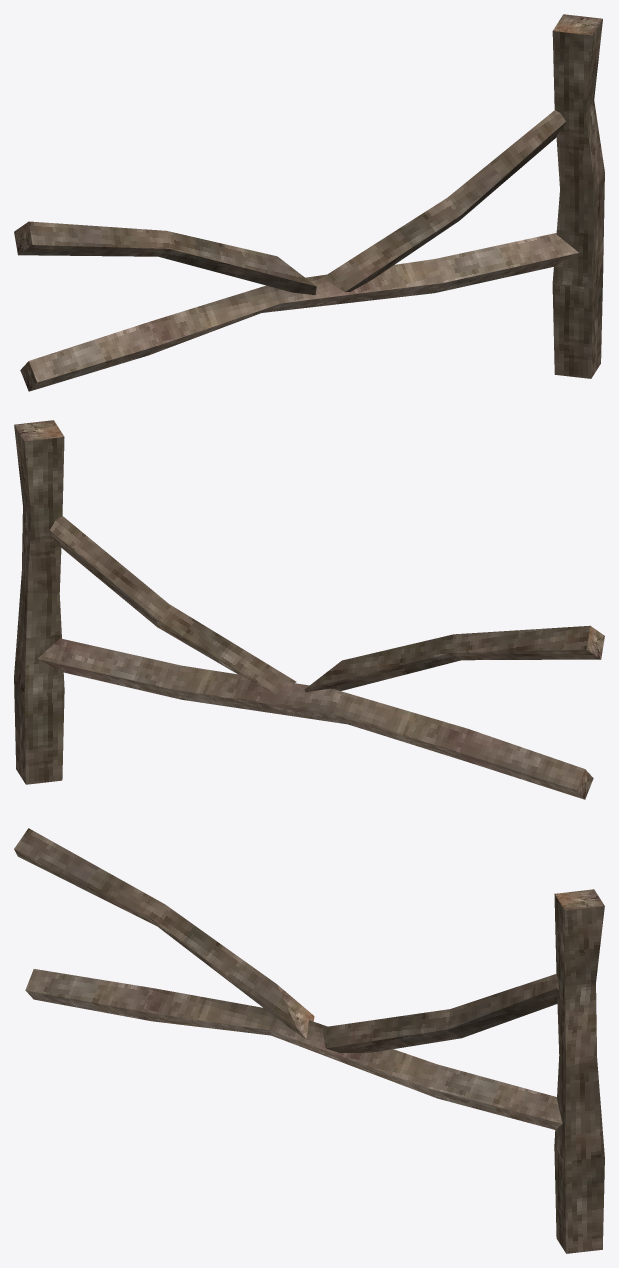
File: wooden_fence_broken_alt.glb
The picture shows the model from 3 angles, top to bottom: view 1: azimuth 30°, elevation 25°; view 2: azimuth 150°, elevation 25°; view 3: azimuth 330°, elevation 25°; orthographic projection.
Visible parts, largest first — view 1: wooden_fence_broken_alt; view 2: wooden_fence_broken_alt; view 3: wooden_fence_broken_alt.
Boxes of the visible parts, x1,y1,x2,y2 form: wooden_fence_broken_alt: (14, 14, 604, 391); wooden_fence_broken_alt: (14, 420, 604, 799); wooden_fence_broken_alt: (14, 828, 604, 1253).
Bounding box in the file's own units: 2.14 × 1.2 × 0.1891.
1 material, 1 textured.
